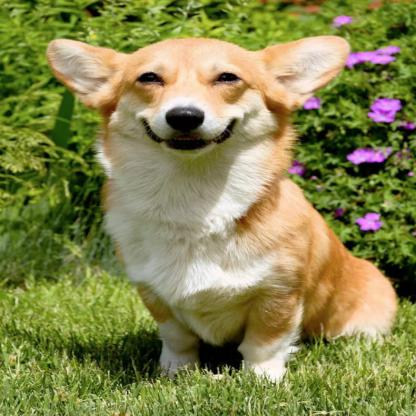Korgi: (39, 31, 403, 387)
